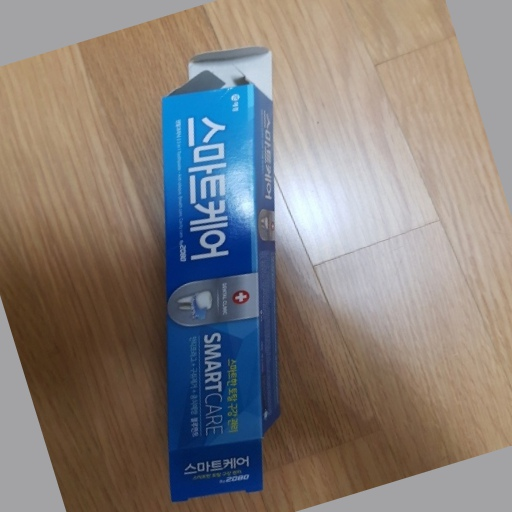Paper_0: (159, 39, 289, 497)
